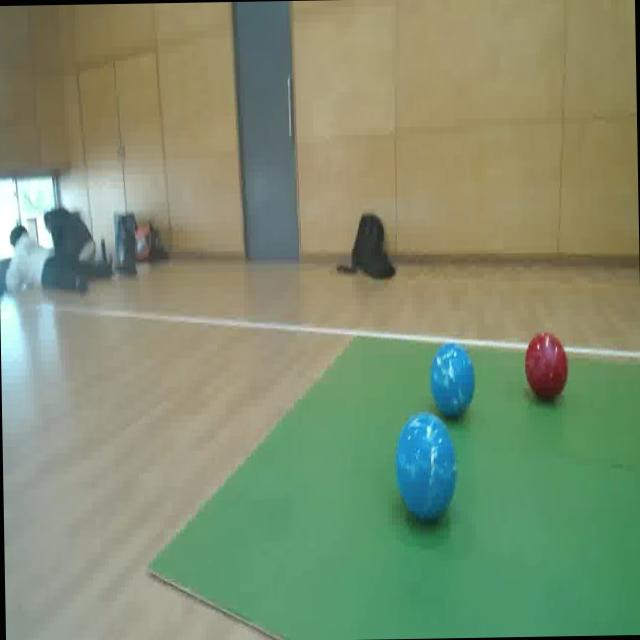blue_ball: (394, 412, 458, 524), (427, 340, 475, 422)
red_ball: (524, 332, 568, 404)
